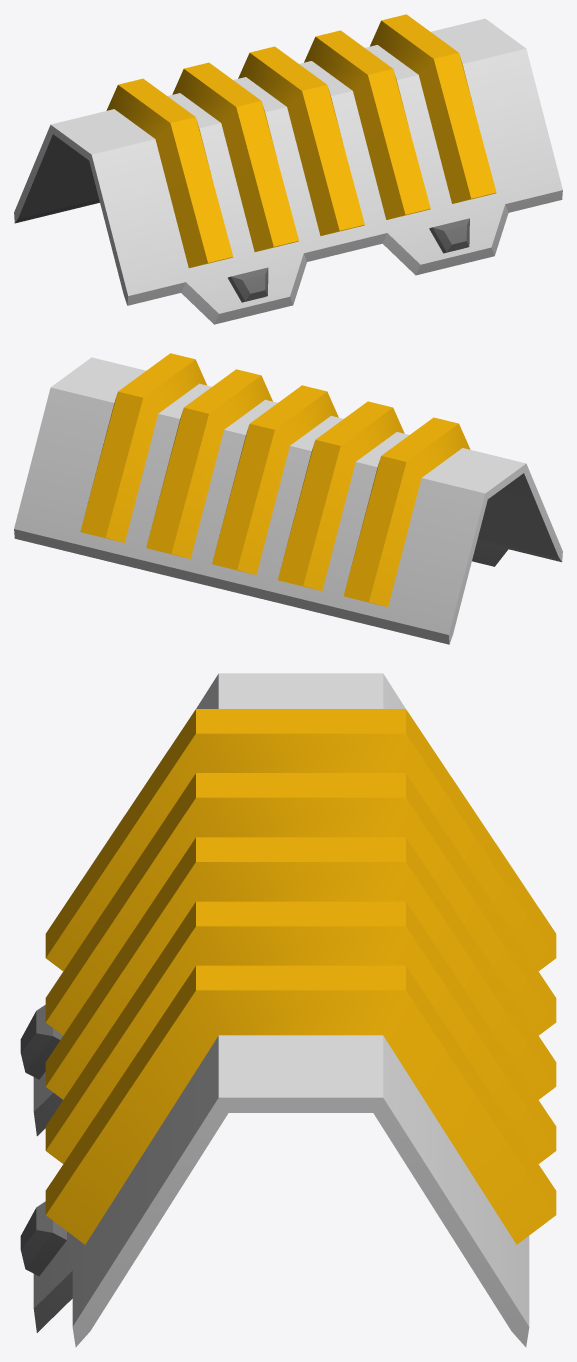
File: Crate_007_cap_001.fbx
3 views of the same model, one above another, from view 1: azimuth 30°, elevation 25°; view 2: azimuth 150°, elevation 25°; view 3: azimuth 270°, elevation 25° (orthographic). The views are drawn at different scales.
Parts seen in each view (by area): view 1: Crate_007_cap_001; view 2: Crate_007_cap_001; view 3: Crate_007_cap_001.
Part boxes in pixels (x1,y1,x2,y2): Crate_007_cap_001: [14, 14, 562, 324]; Crate_007_cap_001: [14, 353, 562, 644]; Crate_007_cap_001: [20, 673, 556, 1347].
Size of the model in its own units: 79.46 by 42.37 by 30.28.
